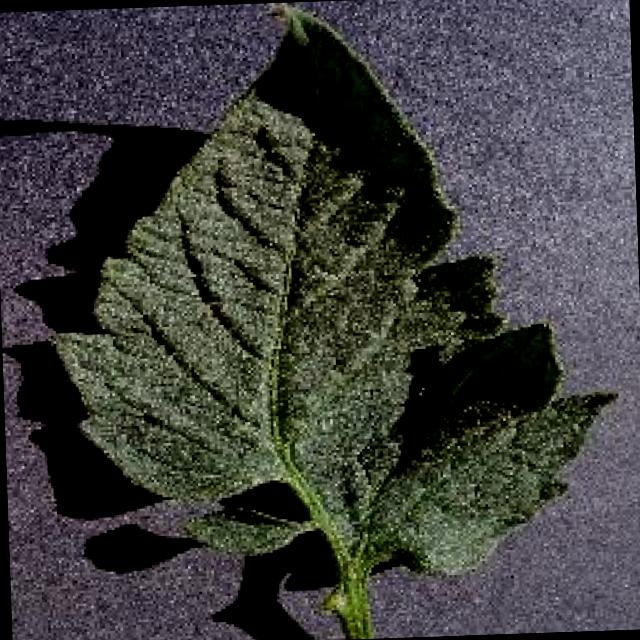healthy: (44, 1, 612, 639)
